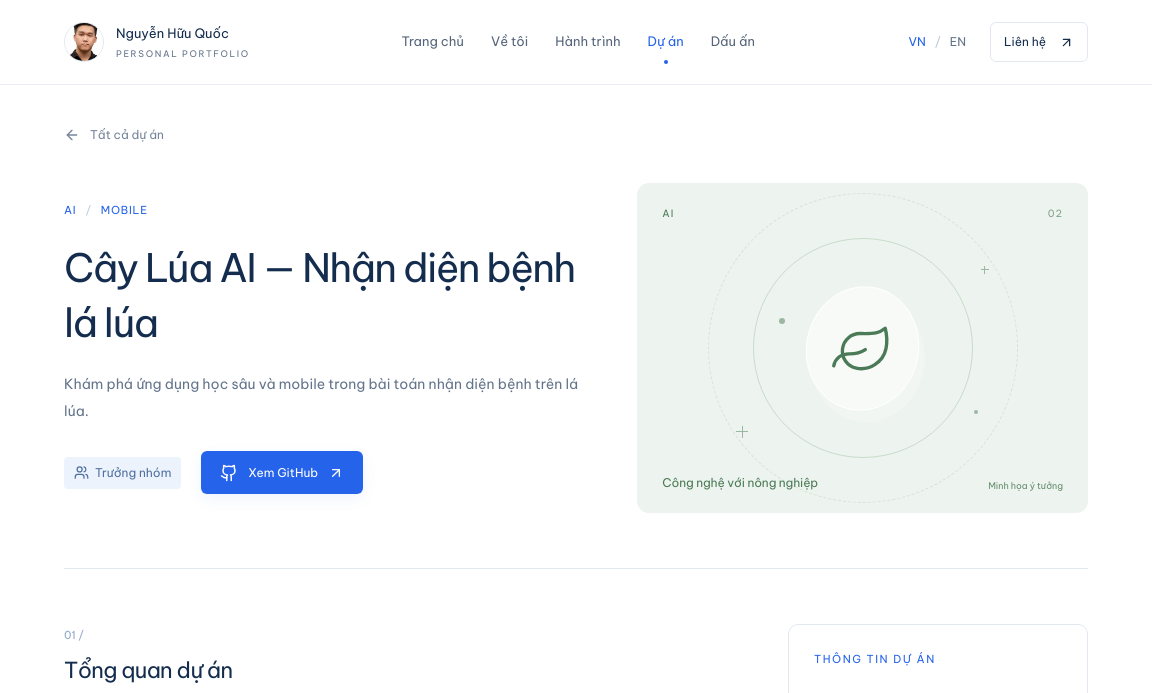
Test: case study routes and content authenticity › opens cay-lua-ai with the confirmed role and real source link
This screenshot has width=1152, height=693.
Expected: the heading "Cây Lúa AI — Nhận diện bệnh lá lúa" is shown, [64,241,582,351]
Click the button named "English" at (958, 42), box [948,22,968,62]
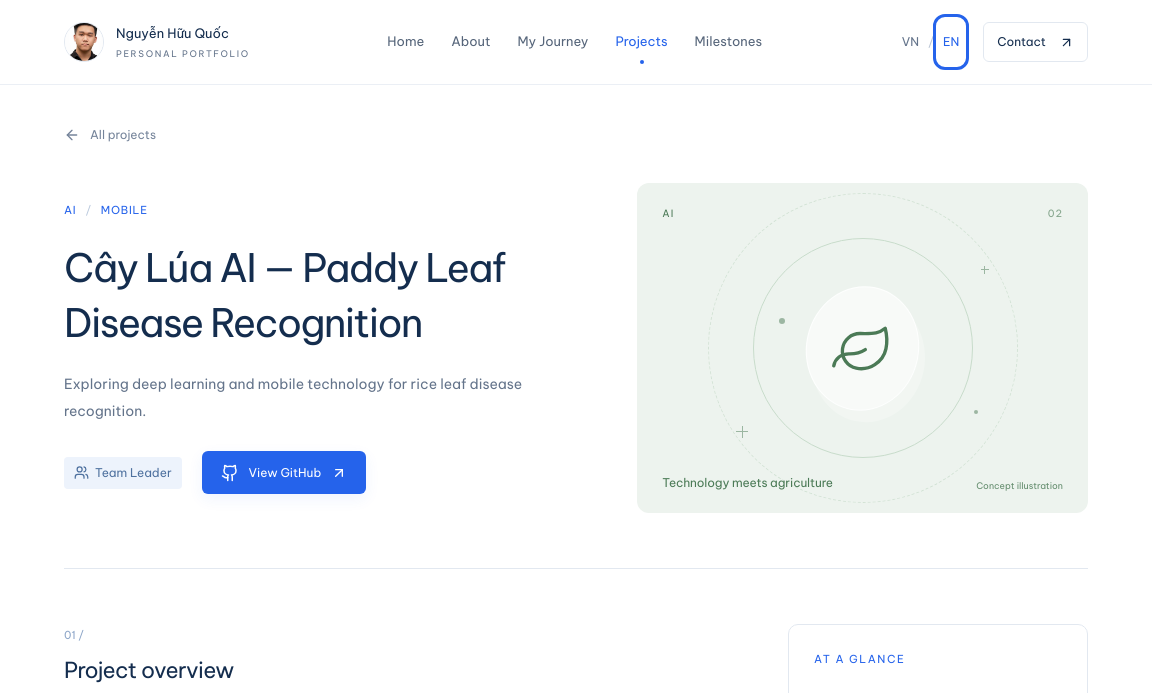
Expected: the heading "Cây Lúa AI — Paddy Leaf Disease Recognition" is shown, [64,241,582,351]
Expected: the heading "Project overview" is shown, [64,656,234,684]
Expected: the text "Team Leader" is shown, [64,457,182,489]
